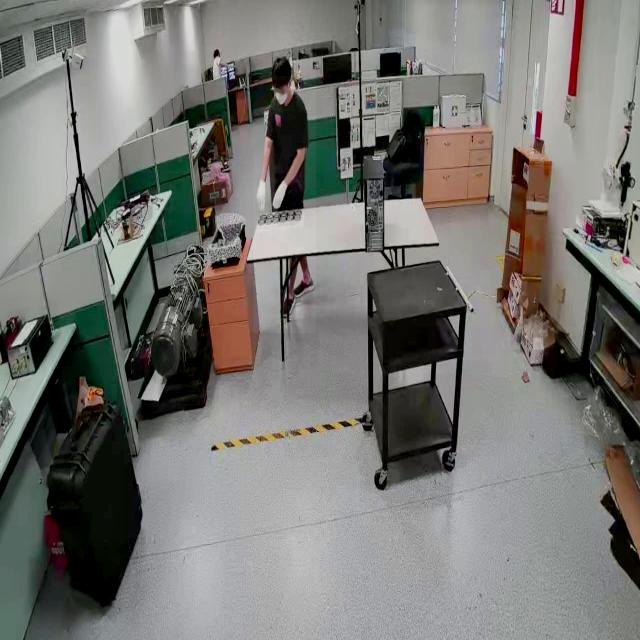face_mask: (272, 77, 294, 111)
hand_glove: (274, 174, 292, 222), (254, 175, 268, 218)
head_nohelmet: (272, 56, 292, 76), (213, 48, 220, 54)
person: (253, 52, 316, 334)
shoes: (292, 274, 316, 298), (280, 287, 297, 319)
